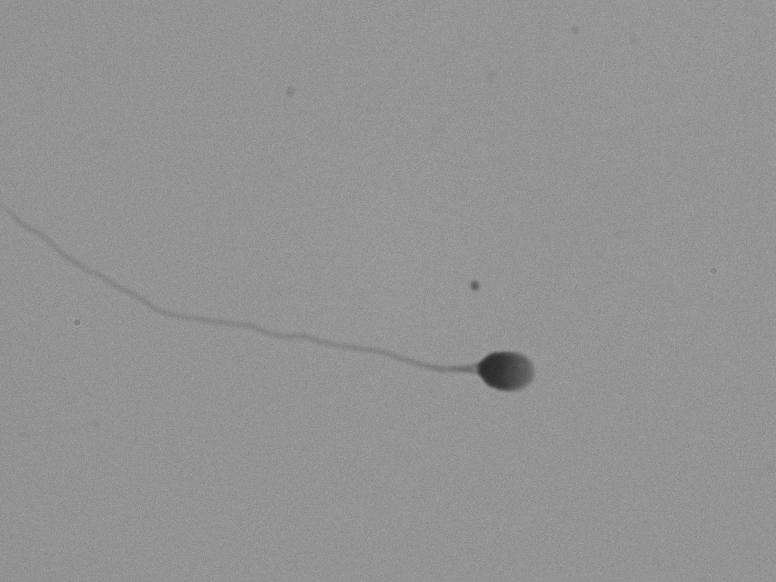Normal: (15, 214, 600, 456)
